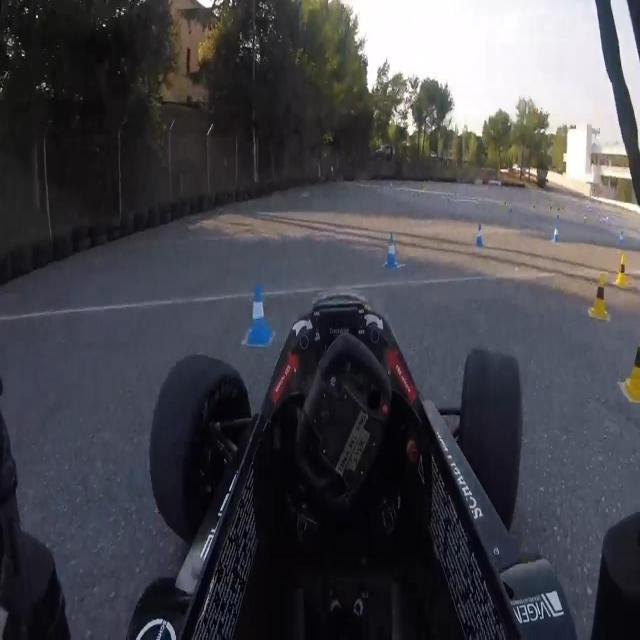blue_cone: (242, 276, 275, 354), (383, 228, 398, 270), (474, 219, 484, 249), (552, 220, 561, 248), (617, 228, 624, 248)
yellow_cone: (620, 337, 640, 399), (588, 273, 608, 323), (614, 254, 630, 289)
